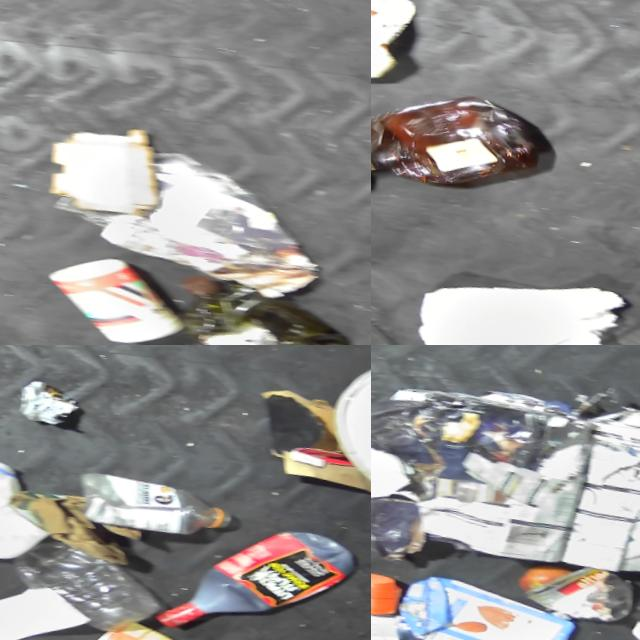can: (9, 379, 81, 433)
milk_jug: (0, 446, 54, 573), (371, 0, 419, 94)
plastic_bottle: (0, 532, 164, 640), (371, 596, 452, 640)
